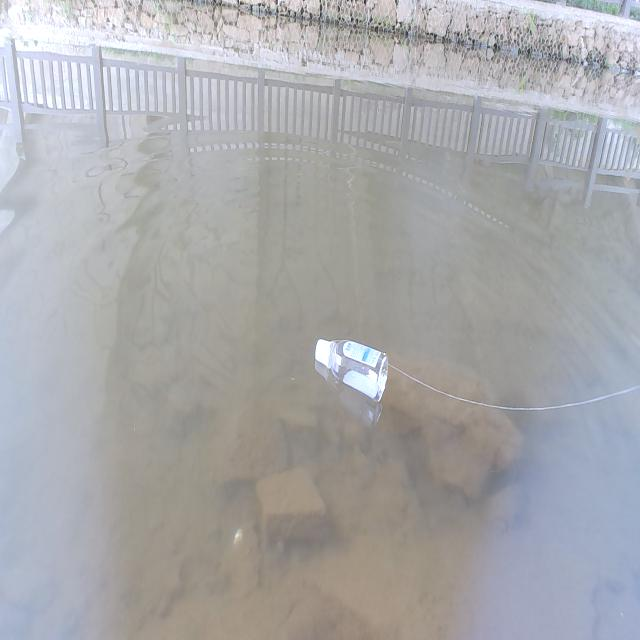bottle: (294, 312, 406, 430)
